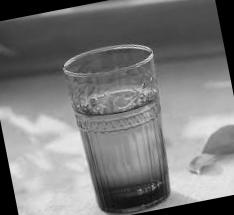glass: (28, 24, 199, 215)
